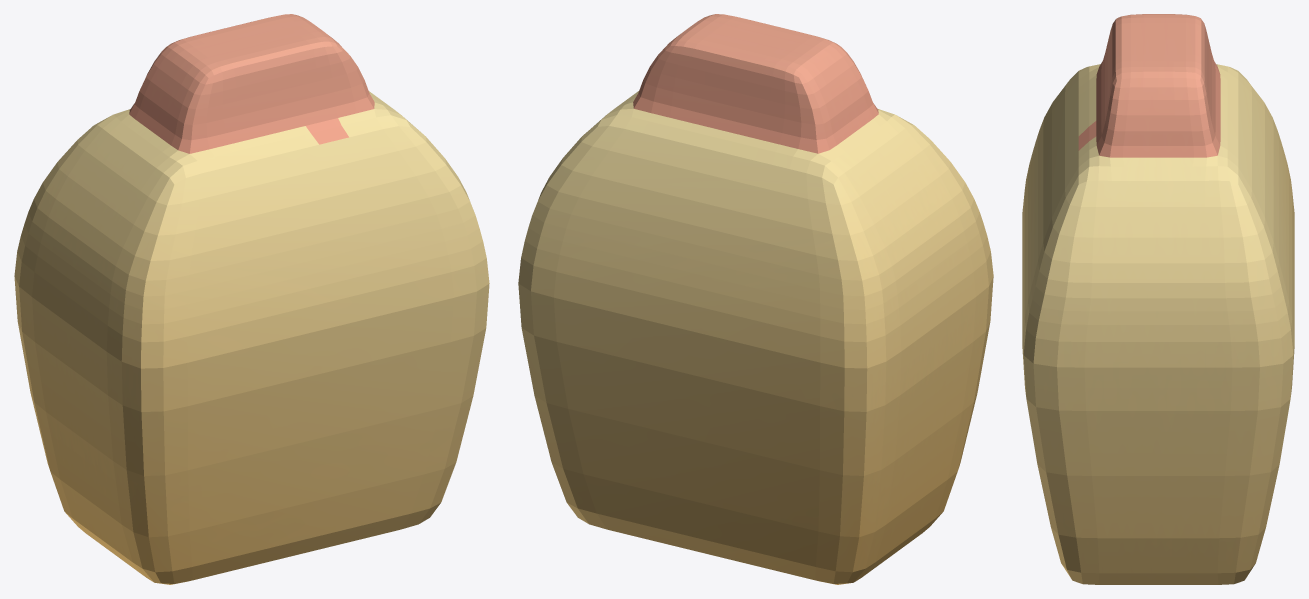
File: conditioner.fbx
3 renders of one model, left to right at view 1: azimuth 30°, elevation 25°; view 2: azimuth 150°, elevation 25°; view 3: azimuth 270°, elevation 25°, orthographic.
Parts seen in each view (by area): view 1: bottle2; view 2: bottle2; view 3: bottle2.
Boxes of the visible parts, x1,y1,x2,y2 form: bottle2: (14, 14, 489, 584); bottle2: (518, 14, 993, 584); bottle2: (1022, 14, 1294, 584).
Size of the model in its own units: 94.17 by 121 by 61.58.
